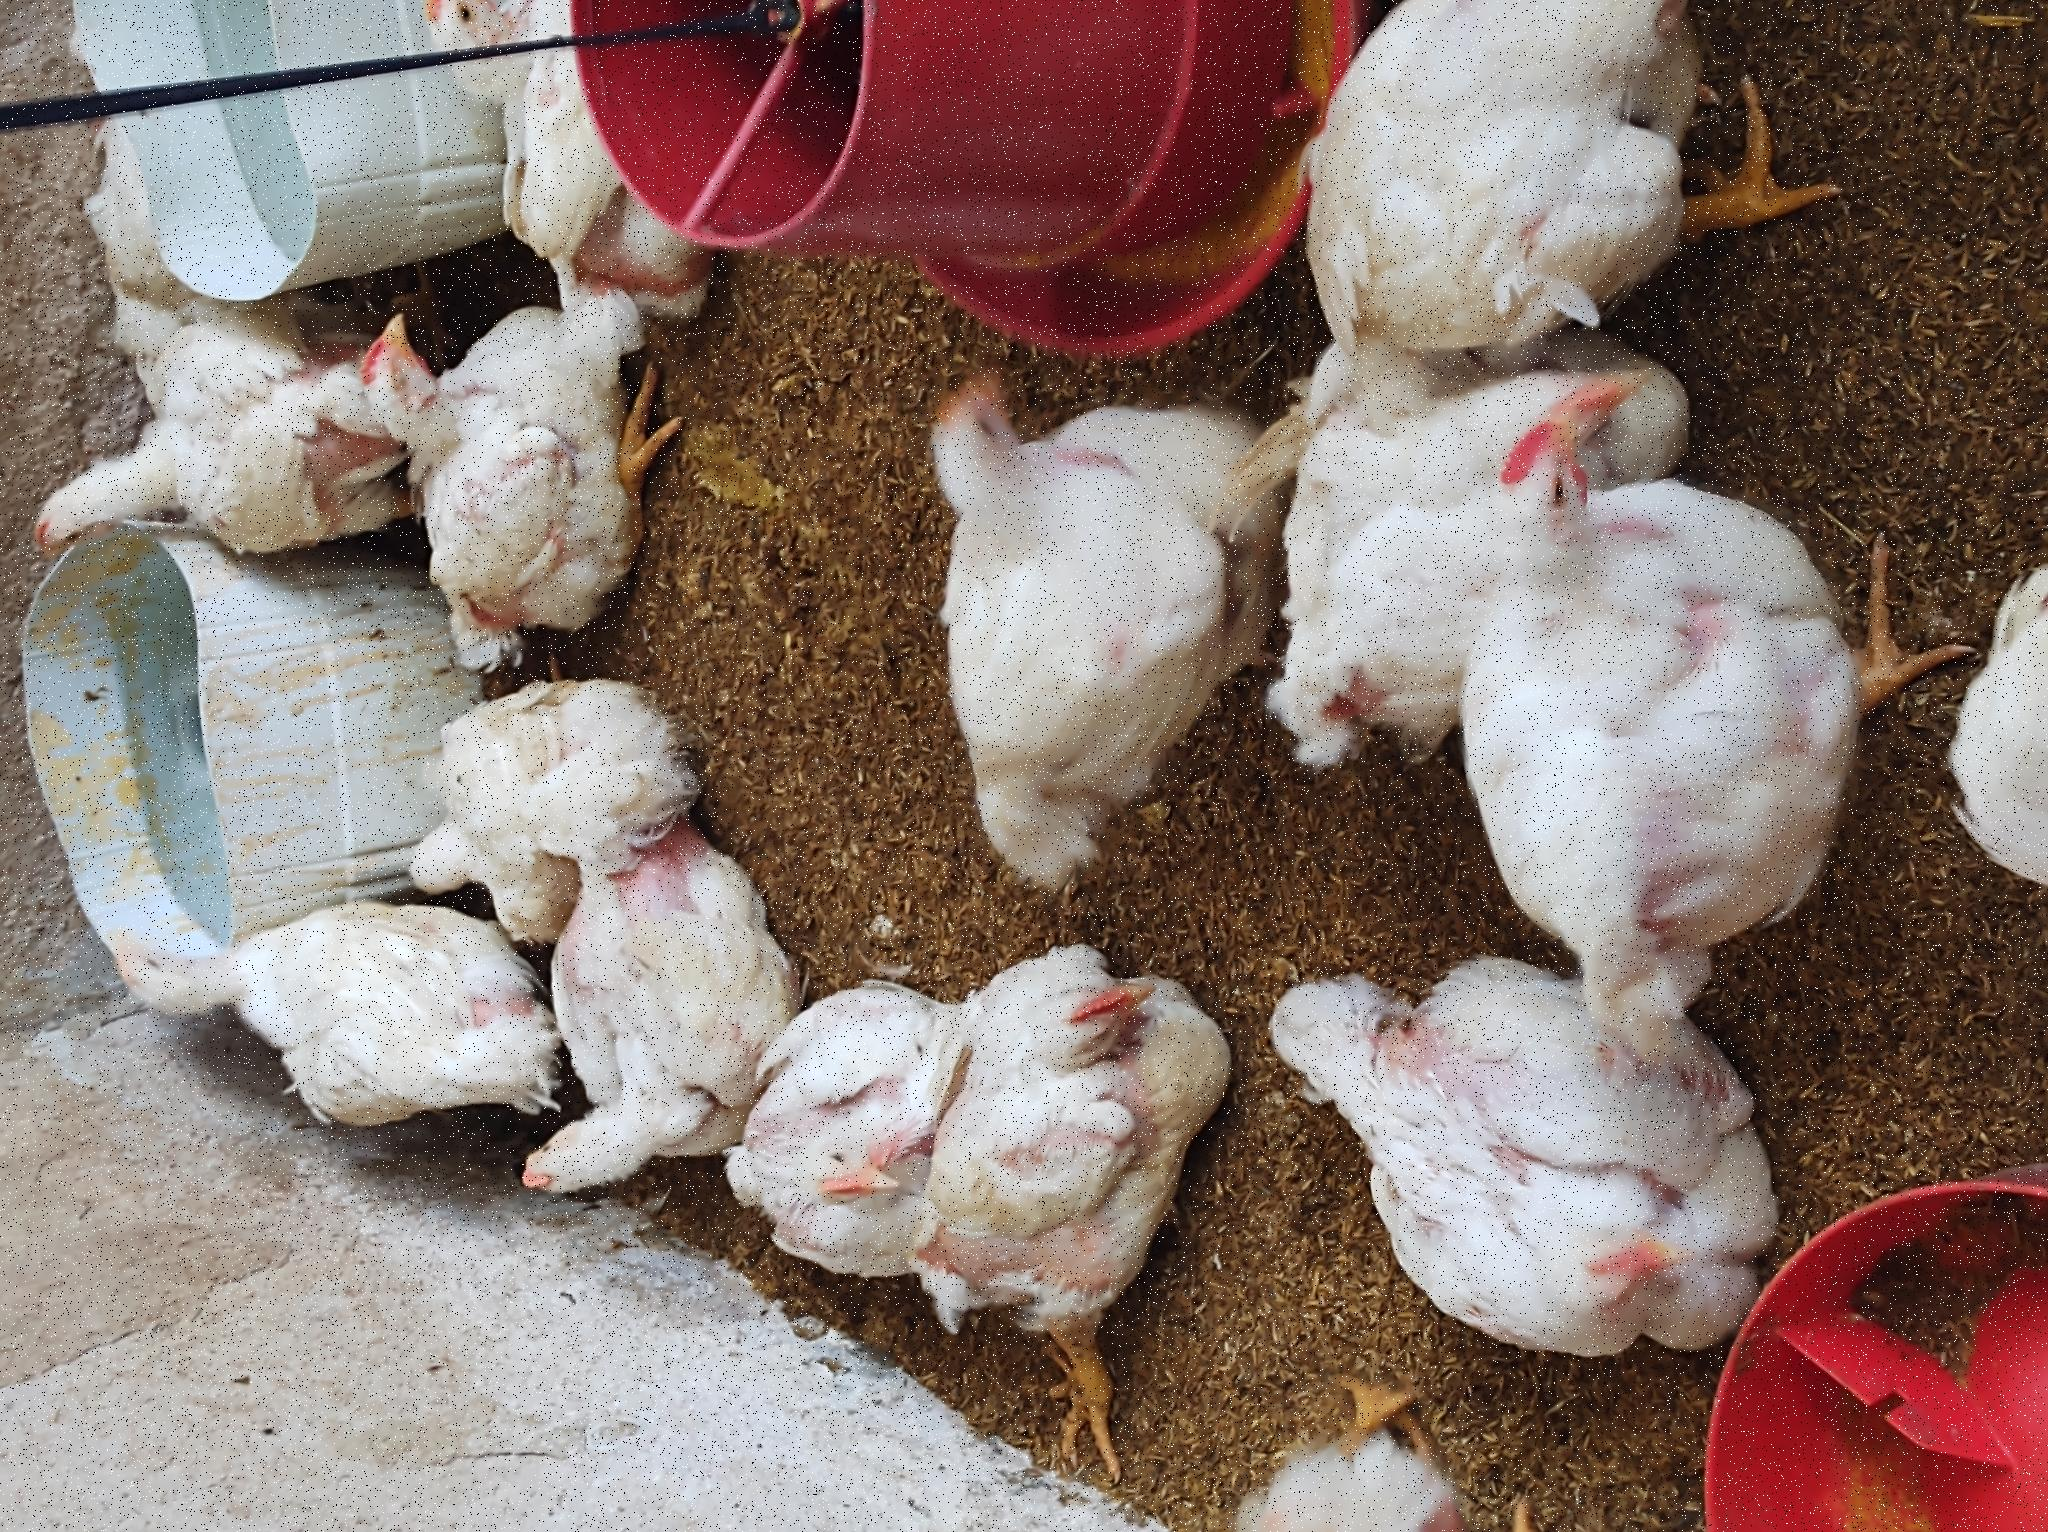Pollos: (669, 859, 1162, 1241), (76, 940, 610, 1204), (903, 352, 1256, 694), (151, 1266, 550, 1532), (389, 100, 640, 513), (1194, 1246, 1532, 1532), (236, 706, 560, 970), (938, 27, 1184, 364), (291, 517, 660, 740), (1281, 406, 1532, 719), (615, 396, 874, 697), (2, 1183, 175, 1484)
